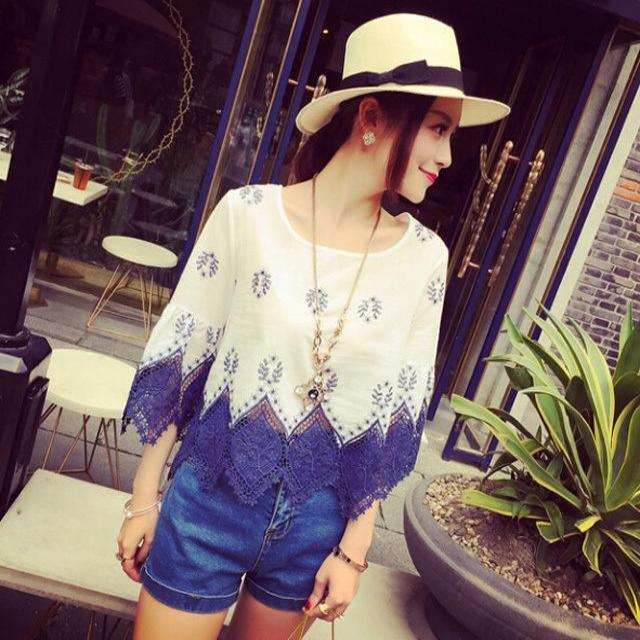long sleeve top: (123, 187, 449, 496)
shorts: (140, 410, 379, 614)
